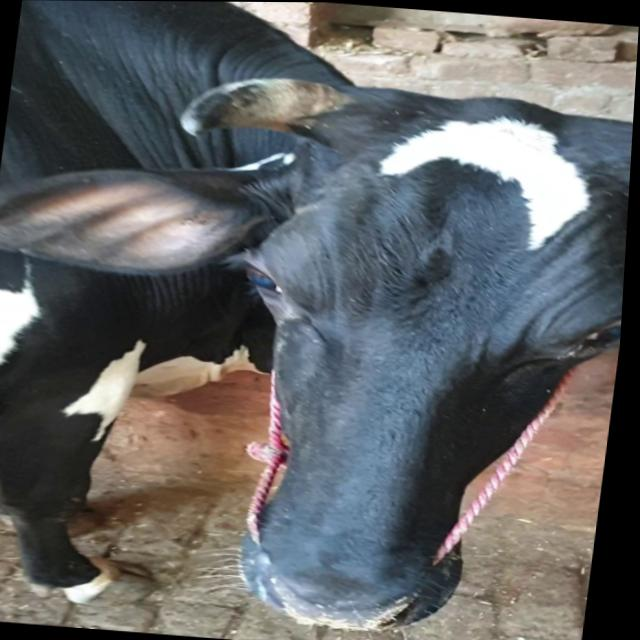cowFace: (101, 60, 637, 640)
